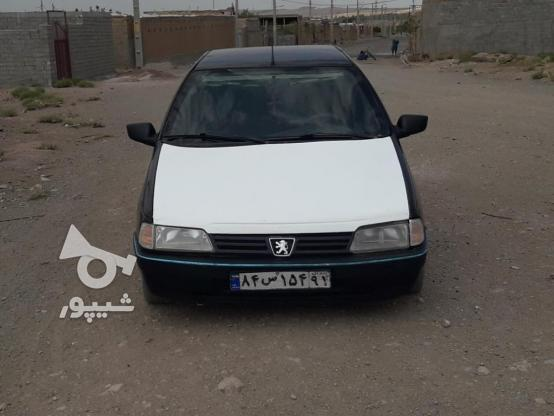car: (229, 270, 332, 293)
